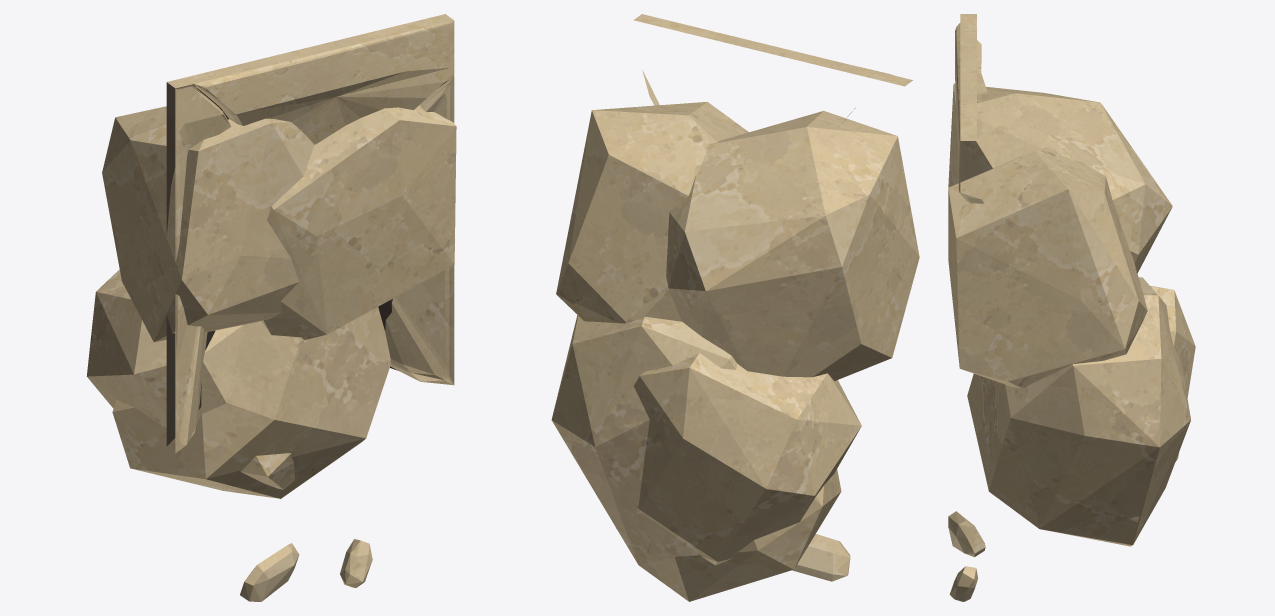
The model's file is ground_bottom_edge_05.glb.
3 views of the same model, side by side, from view 1: azimuth 30°, elevation 25°; view 2: azimuth 150°, elevation 25°; view 3: azimuth 270°, elevation 25° (orthographic). The views are drawn at different scales.
Visible parts, largest first — view 1: GroundBottomEdge05_Body; view 2: GroundBottomEdge05_Body; view 3: GroundBottomEdge05_Body.
Boxes of the visible parts, left/top/right/bottom form: GroundBottomEdge05_Body: left=86, top=14, right=456, bottom=601; GroundBottomEdge05_Body: left=551, top=14, right=919, bottom=601; GroundBottomEdge05_Body: left=948, top=14, right=1195, bottom=601.
Bounding box in the file's own units: 1 × 1.86 × 1.04.
5 materials, 4 textured.
